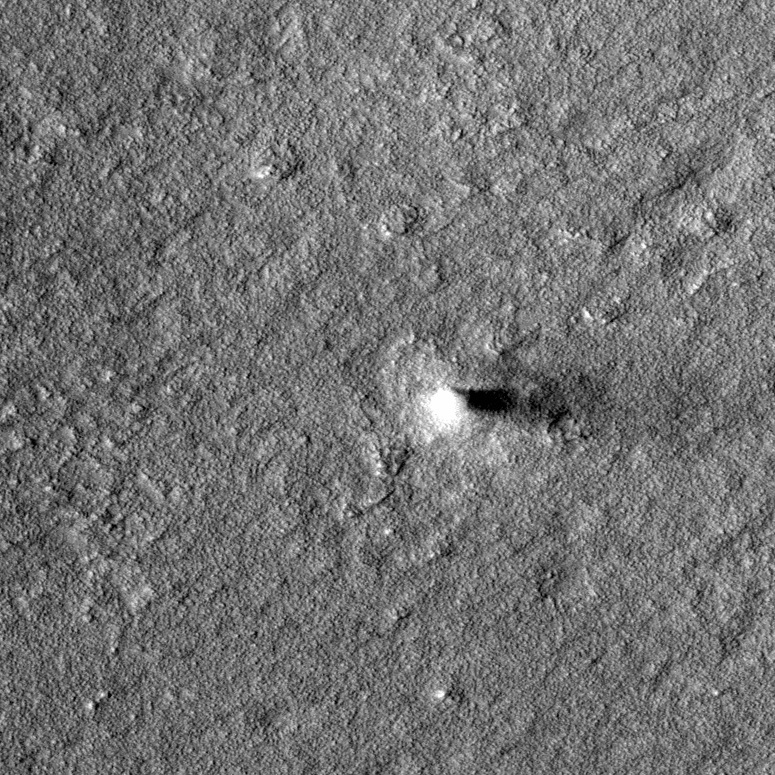dust_devil: (423, 375, 574, 436)
